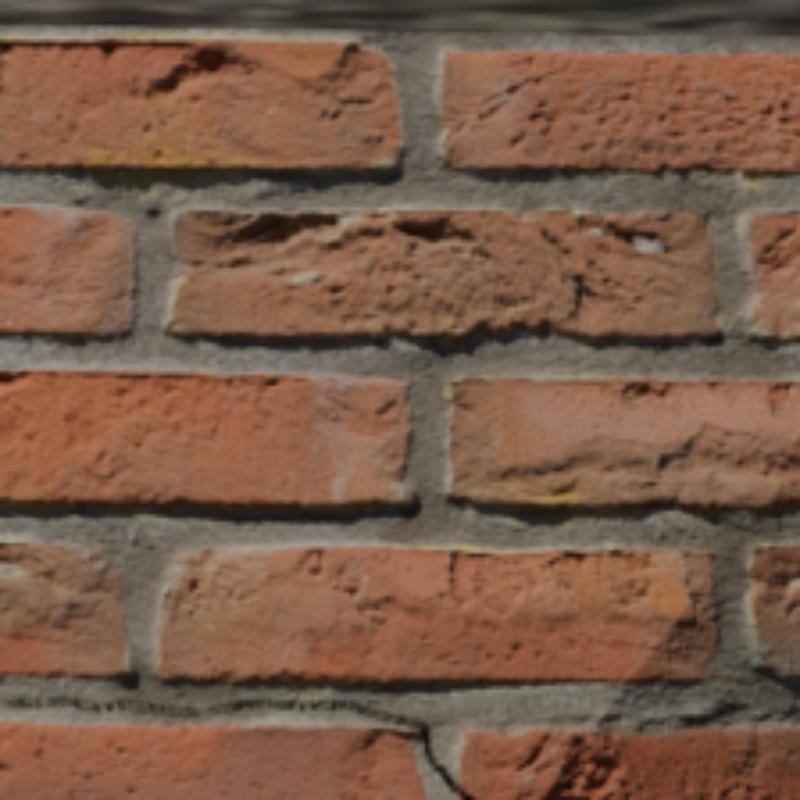pothole: (164, 700, 377, 714), (425, 738, 468, 796), (0, 696, 92, 706), (390, 718, 424, 735), (101, 700, 150, 707)
